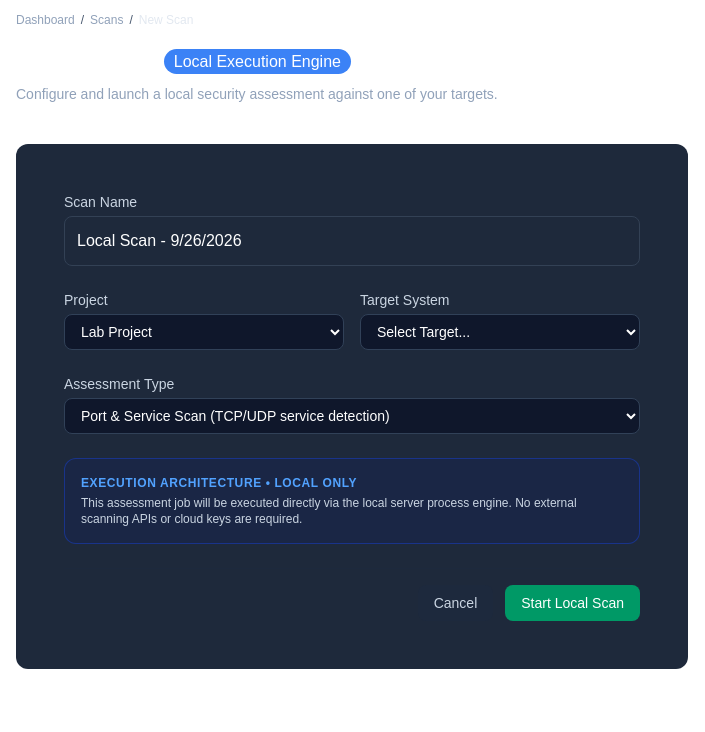
NewScanPage error handling › presents a backend validation failure (invalid target) as an invalid-request error
The image size is (705, 732).
Check: the text "Scan Name" is shown, box [64,194,137,210]
Select "Lab Target (10.0.0.1)" in the dropdown named "targetId" below "Target System". click: (500, 332)
box: [360,314,640,350]
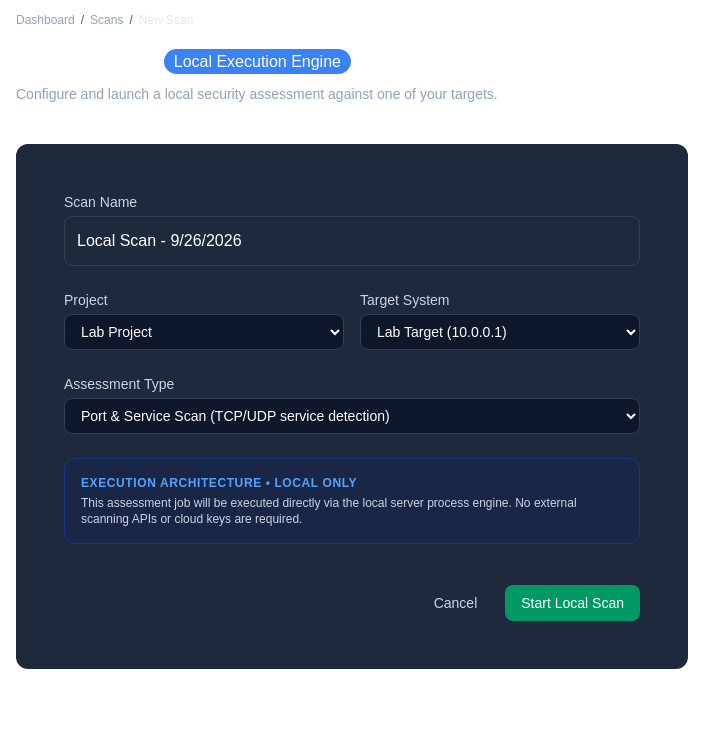
Submit the form named "Start Local Scan", box [40,168,664,645]
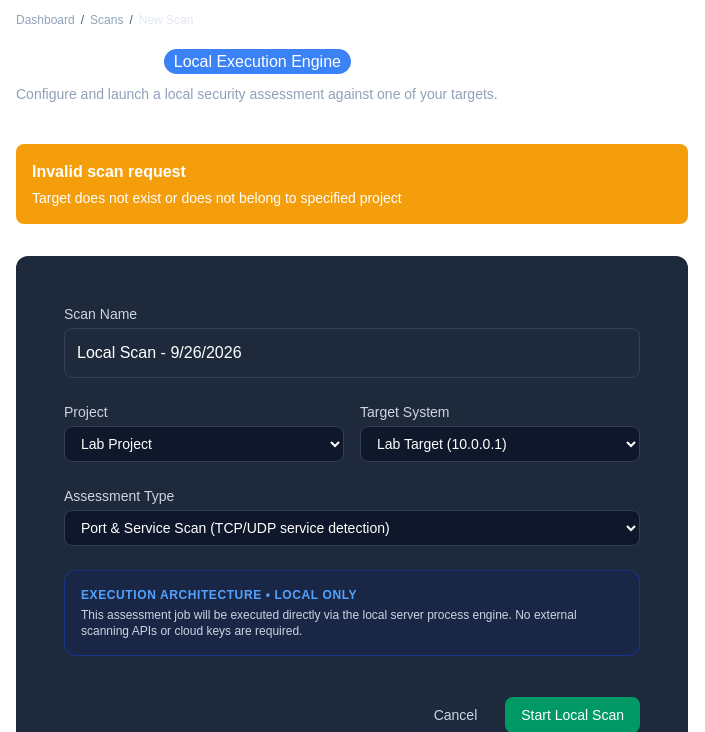
Check: the text "Invalid scan request" is shown, box [32,163,186,180]
Check: the text "Target does not exist or does not belong to specified project" is shown, box [32,190,402,206]
